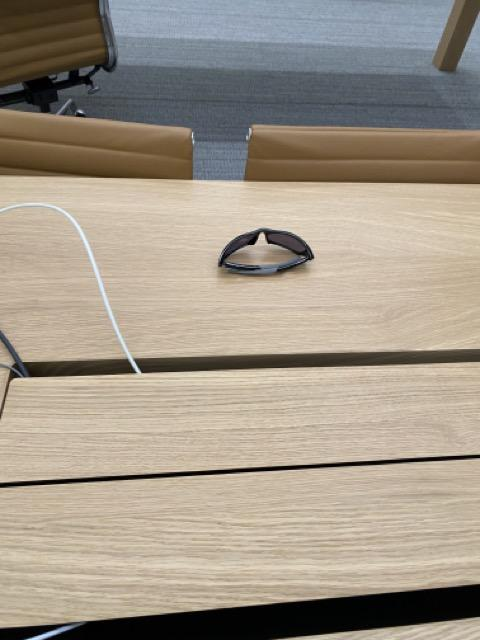Sunglasses: (216, 226, 315, 278)
